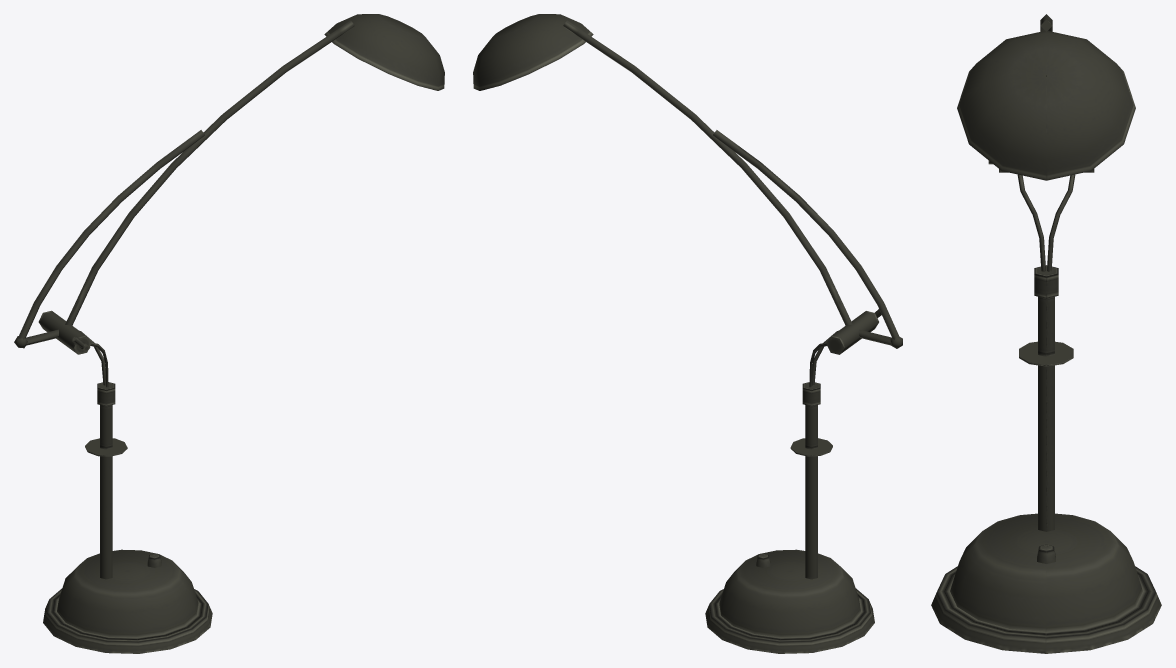
File: TableLamp02.FBX
The picture shows the model from 3 angles, left to right: view 1: azimuth 30°, elevation 25°; view 2: azimuth 150°, elevation 25°; view 3: azimuth 270°, elevation 25°; orthographic projection. The views are drawn at different scales.
Parts seen in each view (by area): view 1: TableLamp02; view 2: TableLamp02; view 3: TableLamp02.
Part boxes in pixels (<box>): TableLamp02: <box>14,14,444,653</box>; TableLamp02: <box>473,14,902,653</box>; TableLamp02: <box>931,14,1161,653</box>.
Bounding box in the file's own units: 44.27 × 15.61 × 54.67.
